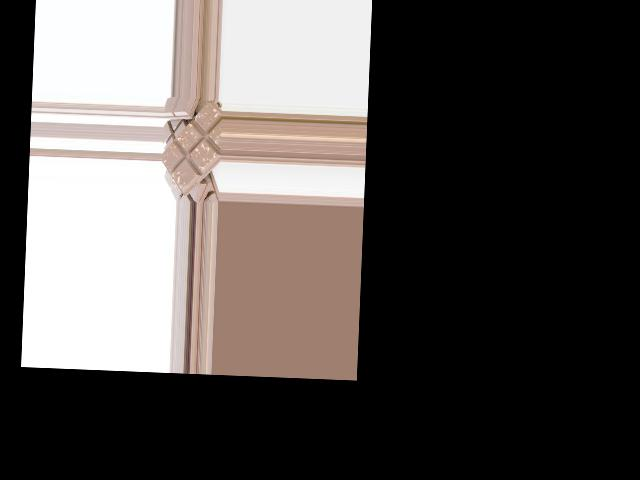chocolate: (161, 100, 223, 190)
